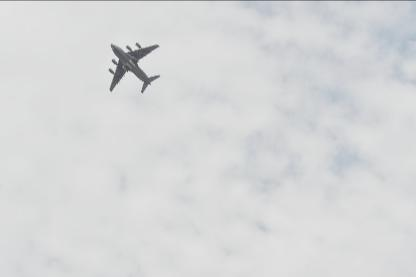C2: (108, 42, 162, 92)
